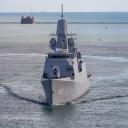Fragata: (42, 4, 93, 108)
